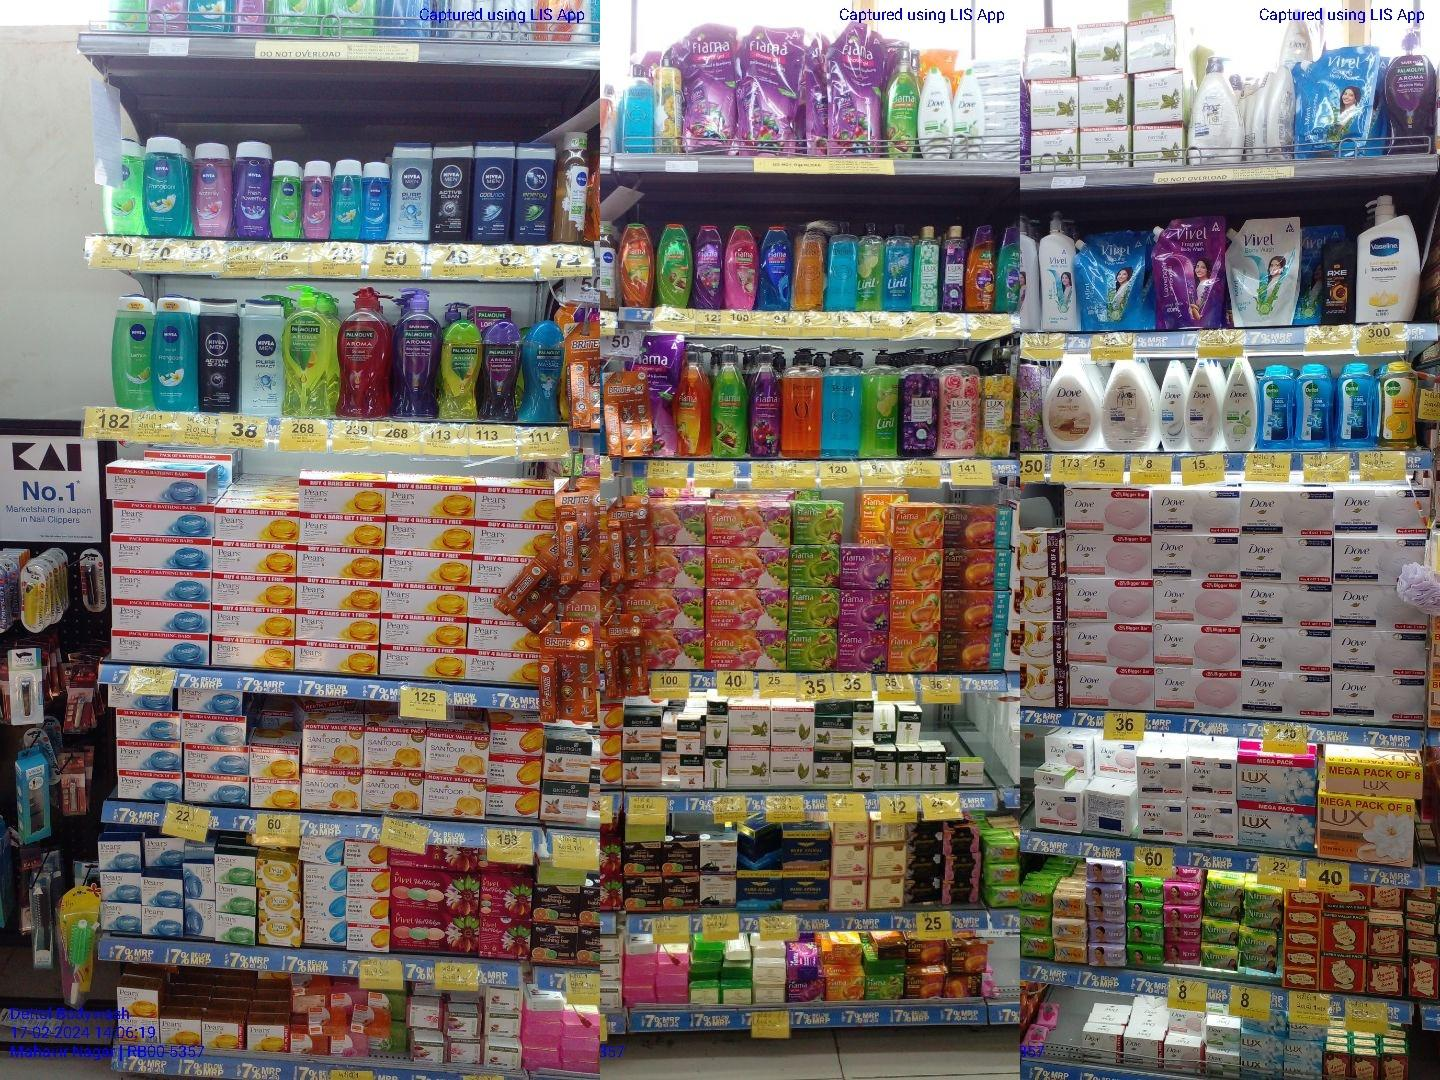Dettol_Bodywash_Cool: (1256, 365, 1294, 450), (1336, 363, 1373, 446), (1297, 362, 1331, 447)
Dettol_Bodywash_Refresh: (1380, 361, 1415, 447)
Dove_Deep_Moisture_Body_Wash_250ML: (1186, 354, 1220, 452)
Dove_Gentle_Exfoliating_Body_Wash_250ML: (1160, 356, 1185, 450)
Dove_Refreshing_Body_Wash_250ML: (1223, 356, 1256, 452)
Fiama_Shower_Gel_Lemongrass_and_Jojoba_250ML: (658, 223, 692, 309)
Fiama_Shower_Gel_Patchouli_and_Macadamia_250ML: (726, 226, 755, 309)
Fiama_Shower_Gel_Peach_and_Avocado_250ML: (622, 223, 655, 306)
Get_Real_Shower_Gel_Moisturising_Glycerin_300ML: (997, 221, 1019, 312)
Joy_Shower_Gel_Mandarin_and_Lemongrass_250ML: (967, 223, 994, 314), (994, 314, 994, 315)
Liril_Cooling_Mint_Body_Wash_250ML: (884, 221, 913, 313)
Liril_Lime_and_Tea_Tree_Oil_Body_Wash_250ML: (857, 221, 883, 311)
Lux_Black_Orchid_Scent_and_Juniper_Oil_Body_Wash_245ML: (943, 221, 964, 313)
Lux_Body_Wash_Skin_Detox_Freesia_Scent_and_Alove_Vera_245ML: (915, 223, 941, 315)
Nivea_Shower_Gel_Frangipani_and_Oil_250ML: (149, 134, 186, 242), (160, 292, 194, 408)
Nivea_Shower_Gel_Fresh_Powerfruit_250ML: (237, 140, 272, 241)
Nivea_Shower_Gel_Lemon_and_Oil_250ML: (112, 293, 154, 413), (116, 146, 145, 238)
Nivea_Shower_Gel_Waterlily_and_Oil_250ML: (194, 141, 232, 238)
Palmolive_Aroma_Moments_Feel_The_Massage_Shower_Gel_250ML: (523, 320, 561, 424)
Palmolive_Aroma_Morning_Tonic_Shower_Gel_250ML: (444, 322, 480, 421)
Palmolive_Aroma_Relax_250ML: (484, 321, 516, 421)
Pears_Pure_Glycerin_and_Mint_Extracts_Body_Wash_250ML: (828, 223, 857, 312)
